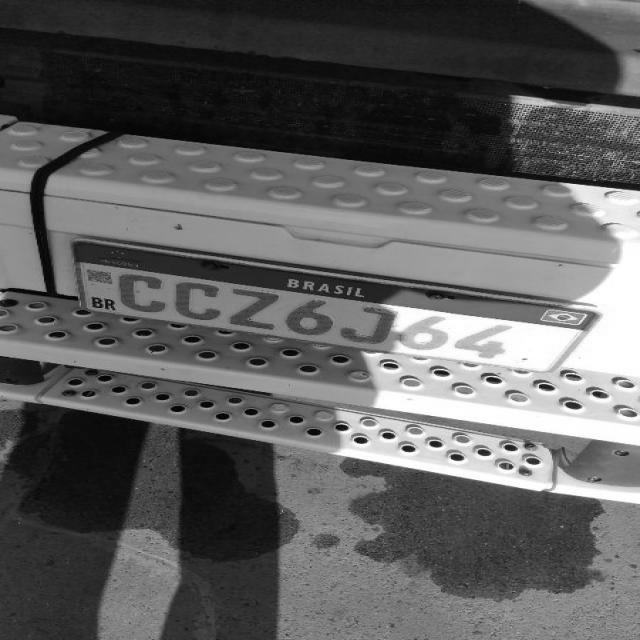placa_mercosul: (78, 236, 604, 374)
